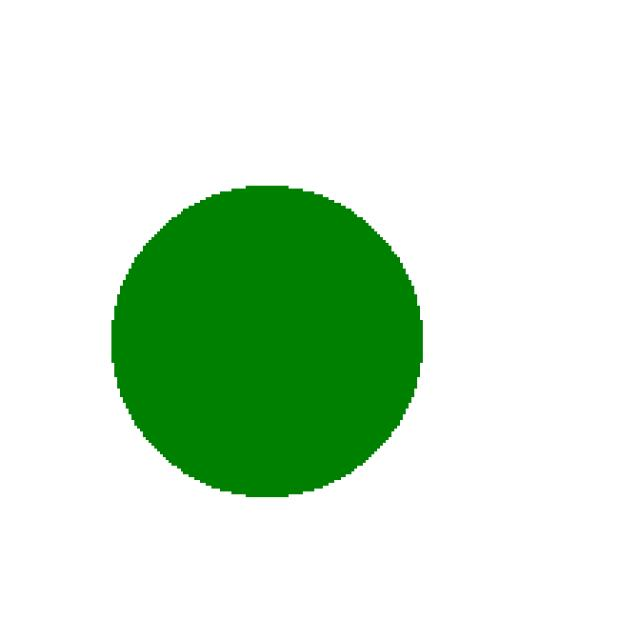Circle: (77, 143, 450, 507)
